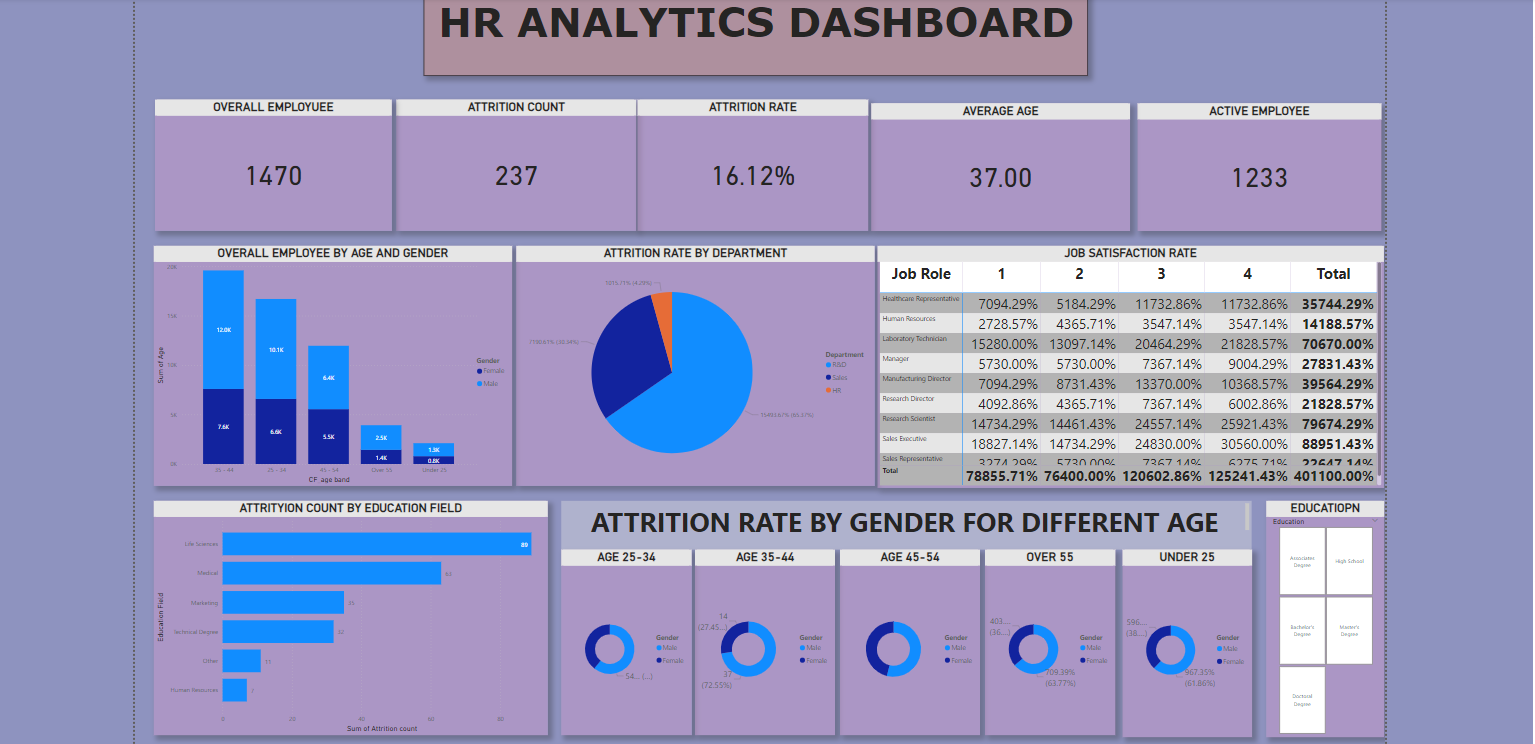

This screenshot's page, from the dashboard's own definition file:
{"tool":"powerbi","page":{"name":"Page 1","canvas":[2500,2000],"ordinal":0},"visuals":[{"type":"card","title":"ATTRITION COUNT","fields":{"Values":["Sum(HR data.Attrition count)"]},"box":[521.6,277.7,480.3,262.7],"z":0},{"type":"donutChart","title":"AGE 25-34","fields":{"Y":["Sum(HR data.Attrition Rate)"],"Category":["HR data.Gender"],"Series":["HR data.CF_age band"]},"box":[851.8,1178.2,260.4,371.5],"z":0,"group":"g1"},{"type":"card","title":"OVERALL EMPLOYUEE","fields":{"Values":["CountNonNull(HR data.OVERALL EMPLOYEE)"]},"box":[37.5,277.7,473.4,262.7],"z":1000,"group":"g2"},{"type":"card","title":"ATTRITION RATE","fields":{"Values":["Avg(HR data.Attrition Rate)"]},"box":[1005.6,277.7,461.5,262.7],"z":1000},{"type":"donutChart","title":"AGE 35-44","fields":{"Y":["Sum(HR data.Attrition count)"],"Category":["HR data.Gender"],"Series":["HR data.CF_age band"]},"box":[1120.1,1178.2,280.2,371.5],"z":1000,"group":"g1"},{"type":"textbox","box":[577.9,63.8,1328.3,165.1],"z":2000},{"type":"donutChart","title":"AGE 45-54","fields":{"Y":["Sum(HR data.Attrition Rate)"],"Category":["HR data.Gender"],"Series":["HR data.CF_age band"]},"box":[1408.2,1178.2,280.2,371.5],"z":2000,"group":"g1"},{"type":"card","title":"ACTIVE EMPLOYEE","fields":{"Values":["Min(HR data.active employee)"]},"box":[2001.8,286.4,487.8,255.2],"z":3000,"group":"g2"},{"type":"columnChart","title":" OVERALL EMPLOYEE BY AGE AND GENDER","fields":{"Y":["Sum(HR data.Age)"],"Category":["HR data.CF_age band"],"Series":["HR data.Gender"]},"box":[37.5,570.4,716.7,480.3],"z":3000},{"type":"donutChart","title":"OVER 55","fields":{"Y":["Sum(HR data.Attrition Rate)"],"Category":["HR data.Gender"],"Series":["HR data.CF_age band"]},"box":[1700.2,1178.2,260.4,371.5],"z":3000,"group":"g1"},{"type":"card","title":"AVERAGE AGE","fields":{"Values":["Avg(HR data.Aversge Age)"]},"box":[1470.9,285.2,517.8,255.2],"z":4000,"group":"g2"},{"type":"pieChart","title":"ATTRITION RATE BY DEPARTMENT","fields":{"Y":["Sum(HR data.Attrition Rate)"],"Category":["HR data.Department"]},"box":[761.7,570.4,716.7,480.3],"z":4000},{"type":"donutChart","title":"UNDER 25","fields":{"Y":["Sum(HR data.Attrition Rate)"],"Category":["HR data.Gender"],"Series":["HR data.CF_age band"]},"box":[1974.6,1177.3,258.9,375.2],"z":4000,"group":"g1"},{"type":"pivotTable","title":"JOB SATISFACTION RATE","fields":{"Rows":["HR data.Job Role"],"Columns":["HR data.Job Satisfaction"],"Values":["Sum(HR data.Job satisfaction rate)"]},"box":[1485.9,570.4,1013.1,484.1],"z":5000},{"type":"clusteredBarChart","title":"ATTRITYION COUNT BY EDUCATION FIELD","fields":{"Y":["Sum(HR data.Attrition count)"],"Category":["HR data.Education Field"]},"box":[37.5,1080.7,788,469],"z":6000},{"type":"slicer","title":"EDUCATIOPN","fields":{"Values":["HR data.Education"]},"box":[2262.7,1080.7,236.4,472.8],"z":7000},{"type":"group","id":"g1","title":"Group 1","box":[851.8,1177.3,1381.7,375.2],"z":8000},{"type":"textbox","box":[851.8,1080.7,1380.9,97.6],"z":9000},{"type":"group","id":"g2","title":"Group 2","box":[37.5,277.7,2452.1,263.9],"z":10000}]}

Visuals, with their boxes on the page's 2500x2000 design canvas (x1, y1, x2, y2). These are canvas units, not pixel positions in the 1535x744 screenshot, which may show the page scaled, cropped or inside an application window:
"ATTRITION COUNT" card: x1=522 y1=278 x2=1002 y2=540
"AGE 25-34" donutChart: x1=852 y1=1178 x2=1112 y2=1550
"OVERALL EMPLOYUEE" card: x1=38 y1=278 x2=511 y2=540
"ATTRITION RATE" card: x1=1006 y1=278 x2=1467 y2=540
"AGE 35-44" donutChart: x1=1120 y1=1178 x2=1400 y2=1550
textbox: x1=578 y1=64 x2=1906 y2=229
"AGE 45-54" donutChart: x1=1408 y1=1178 x2=1688 y2=1550
"ACTIVE EMPLOYEE" card: x1=2002 y1=286 x2=2490 y2=542
" OVERALL EMPLOYEE BY AGE AND GENDER" columnChart: x1=38 y1=570 x2=754 y2=1051
"OVER 55" donutChart: x1=1700 y1=1178 x2=1961 y2=1550
"AVERAGE AGE" card: x1=1471 y1=285 x2=1989 y2=540
"ATTRITION RATE BY DEPARTMENT" pieChart: x1=762 y1=570 x2=1478 y2=1051
"UNDER 25" donutChart: x1=1975 y1=1177 x2=2234 y2=1552
"JOB SATISFACTION RATE" pivotTable: x1=1486 y1=570 x2=2499 y2=1054
"ATTRITYION COUNT BY EDUCATION FIELD" clusteredBarChart: x1=38 y1=1081 x2=826 y2=1550
"EDUCATIOPN" slicer: x1=2263 y1=1081 x2=2499 y2=1554
"Group 1" group: x1=852 y1=1177 x2=2234 y2=1552
textbox: x1=852 y1=1081 x2=2233 y2=1178
"Group 2" group: x1=38 y1=278 x2=2490 y2=542
